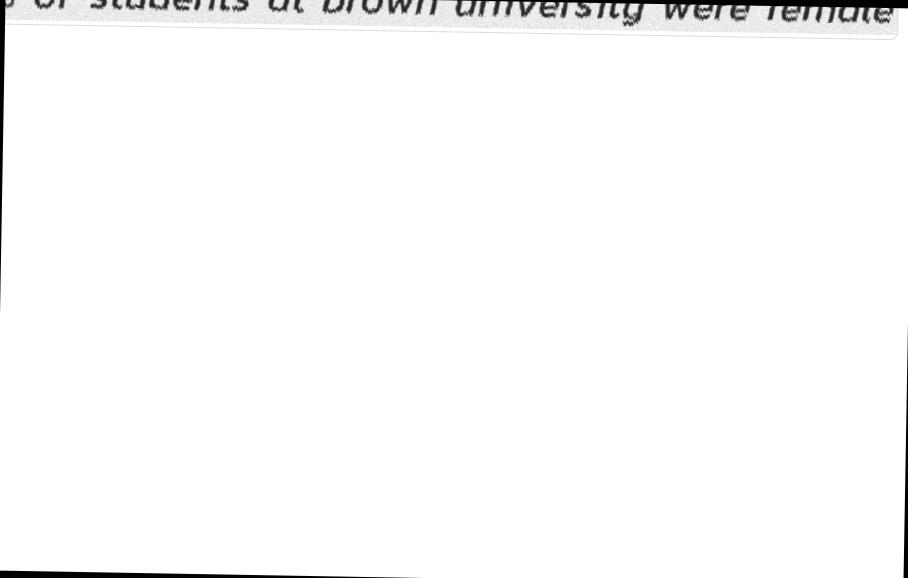text: (5, 0, 895, 34)
